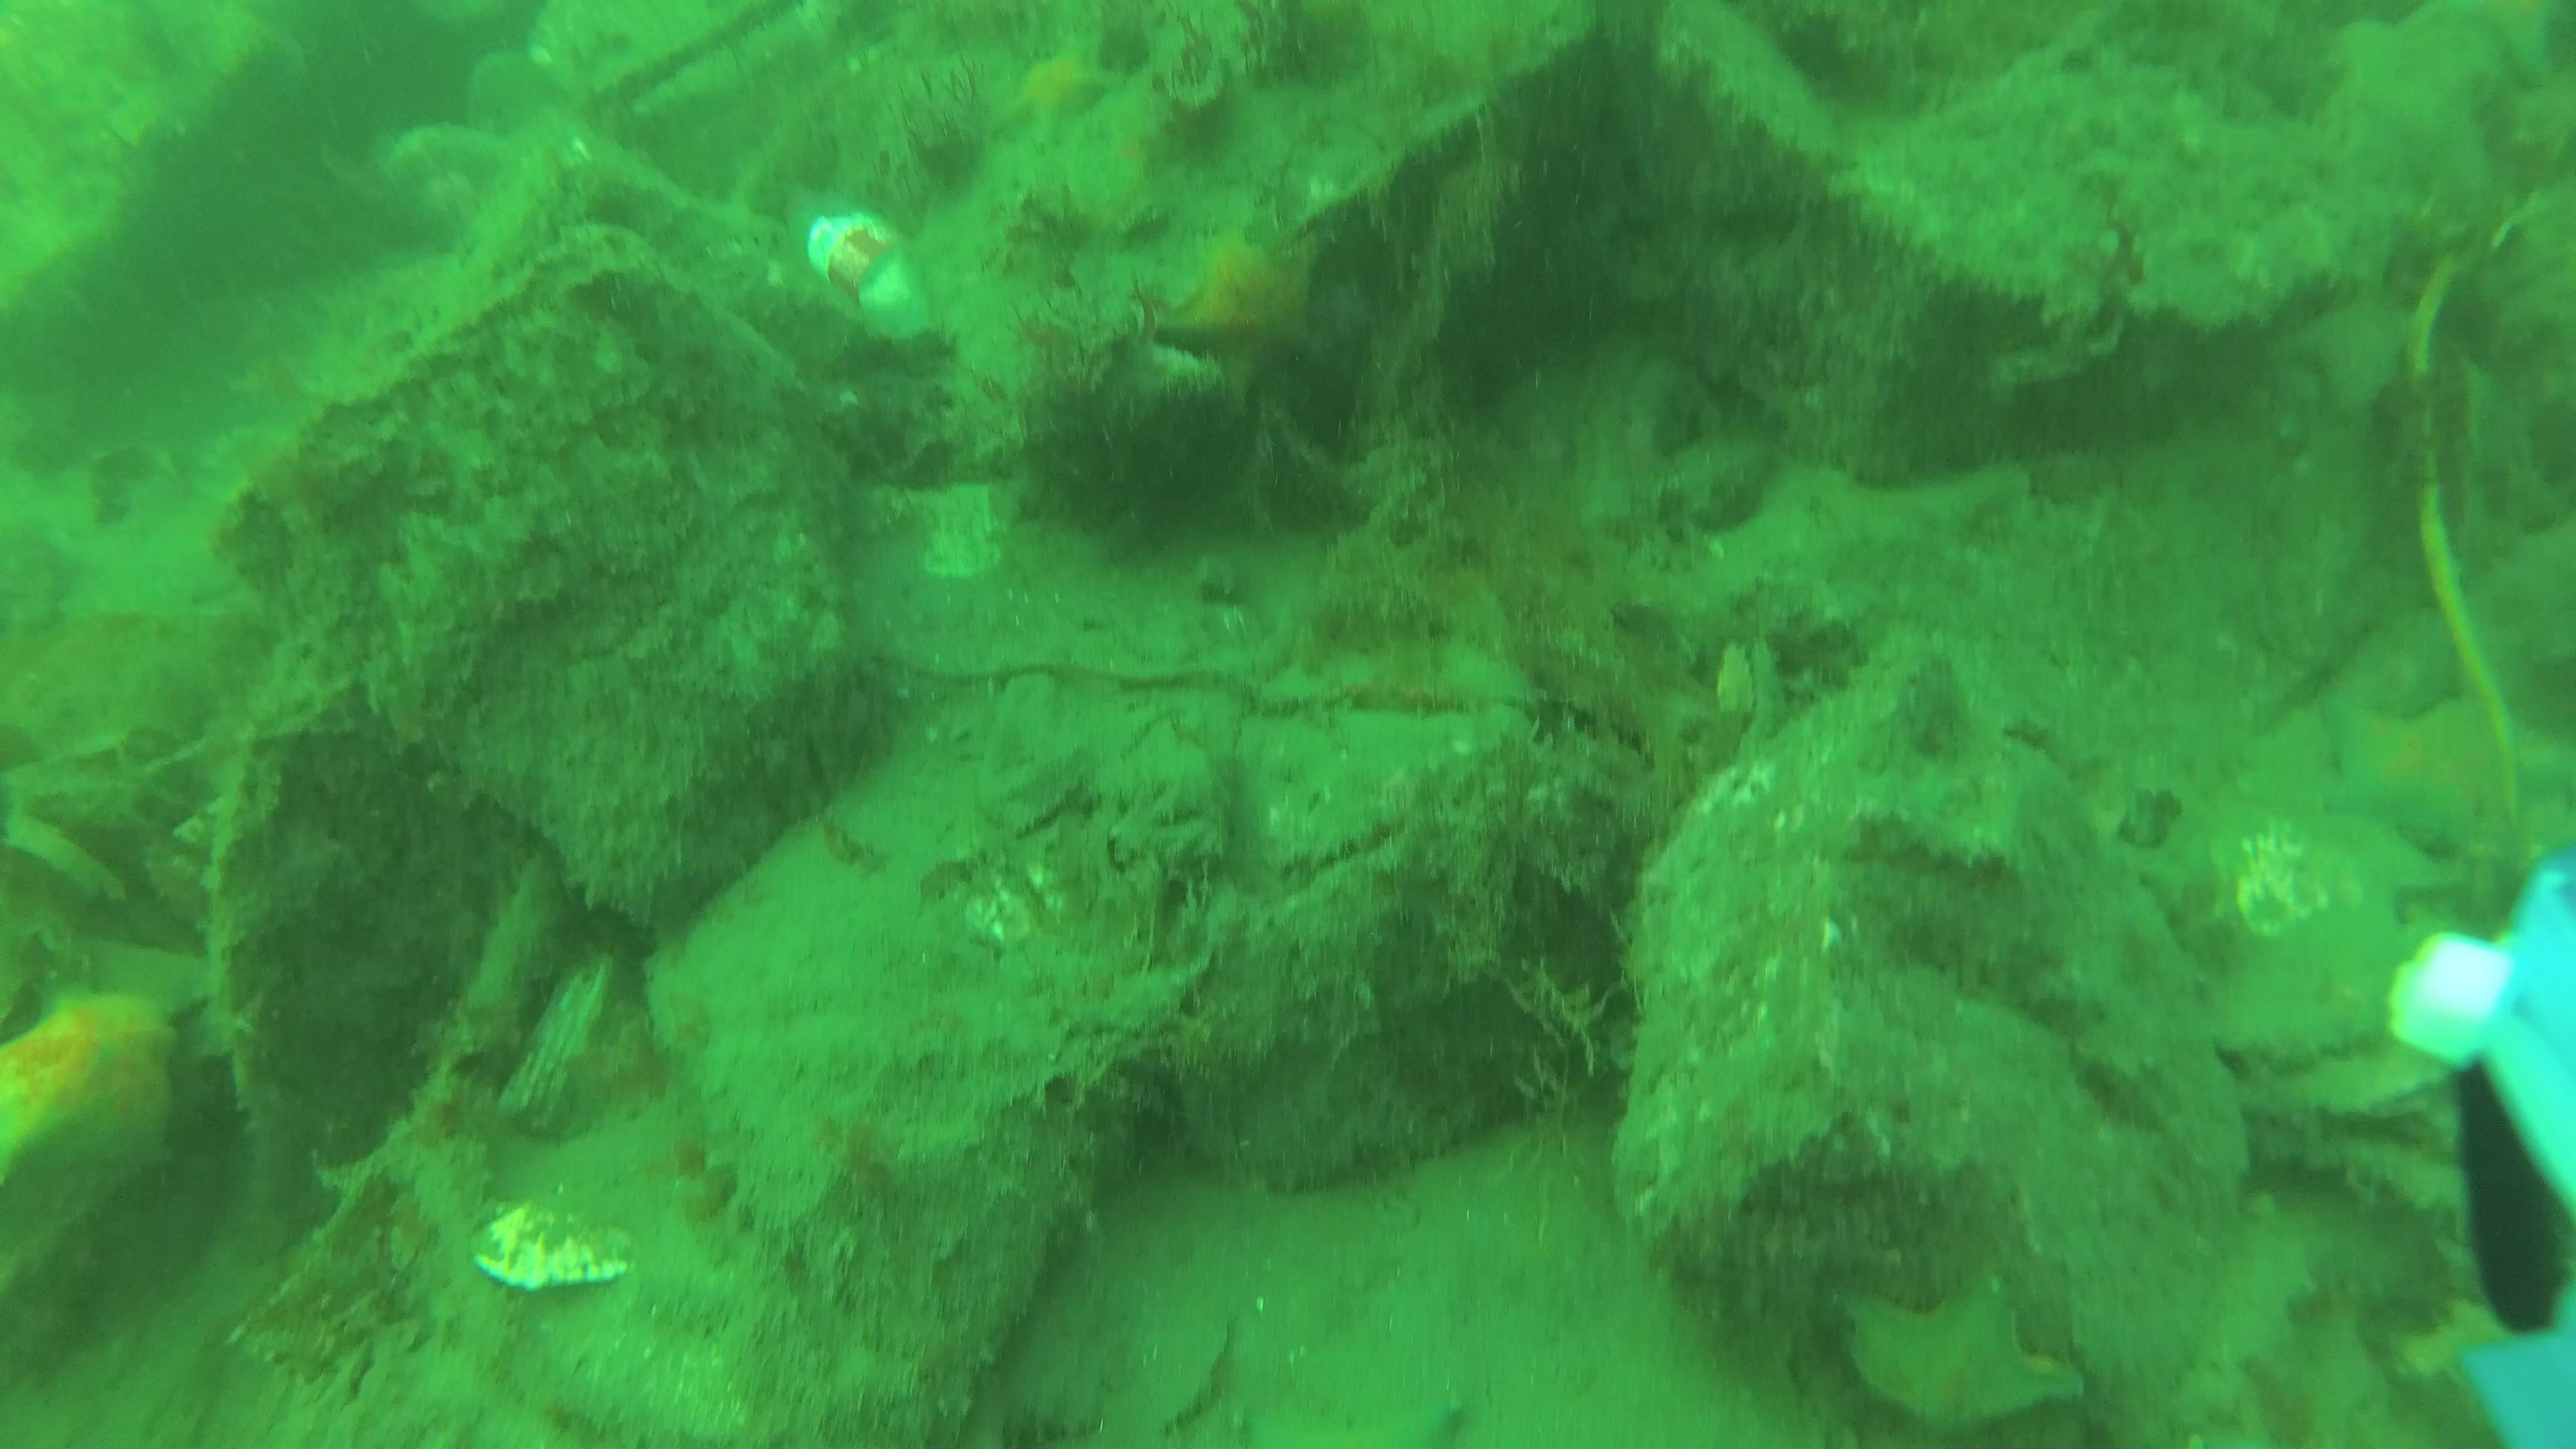scallop: (472, 1205, 639, 1292)
starfish: (2319, 686, 2567, 853), (1835, 1281, 2084, 1444), (4, 998, 175, 1212), (1173, 235, 1293, 343), (1000, 44, 1104, 147)
